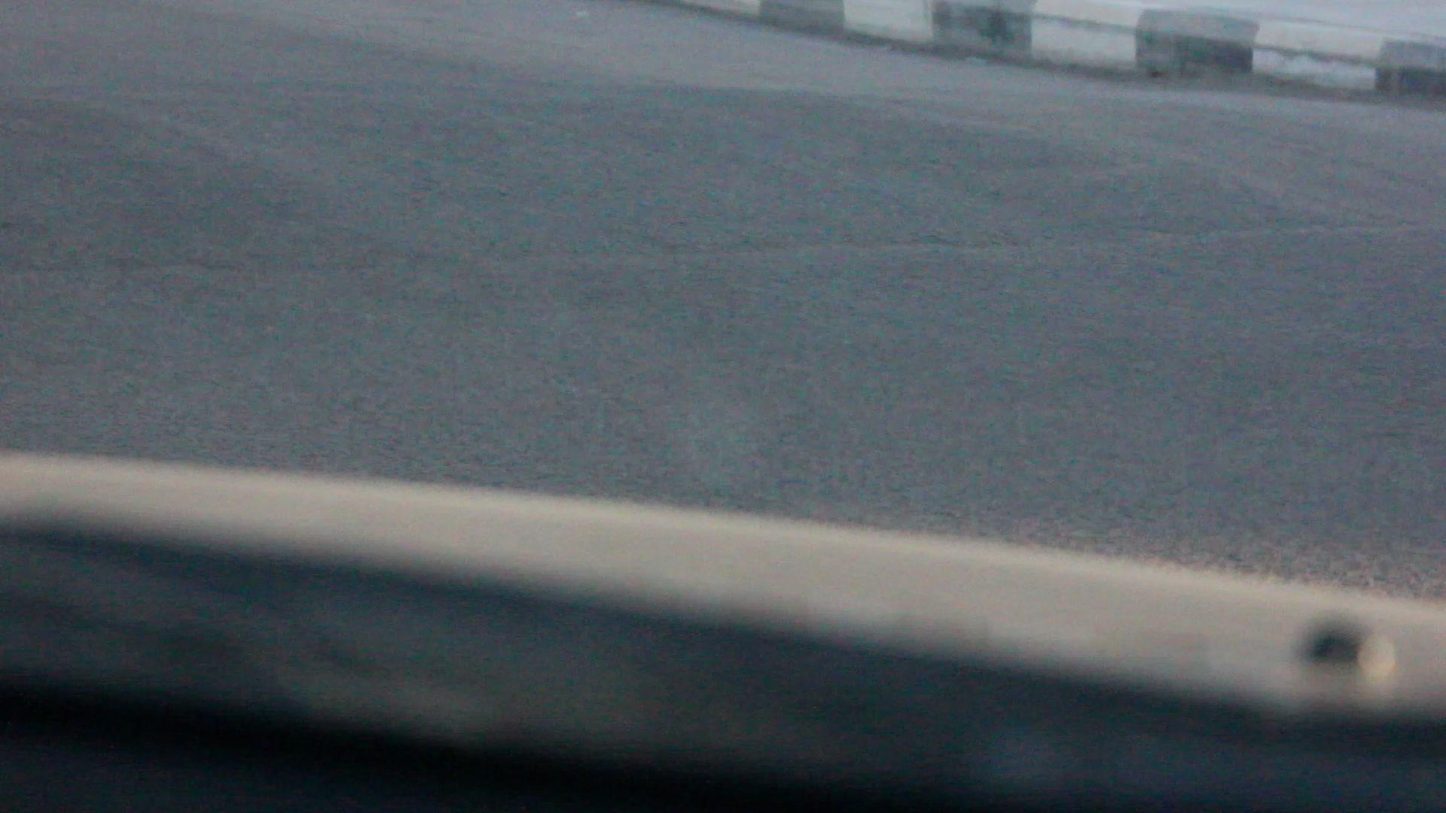Bump: (0, 56, 1440, 269)
